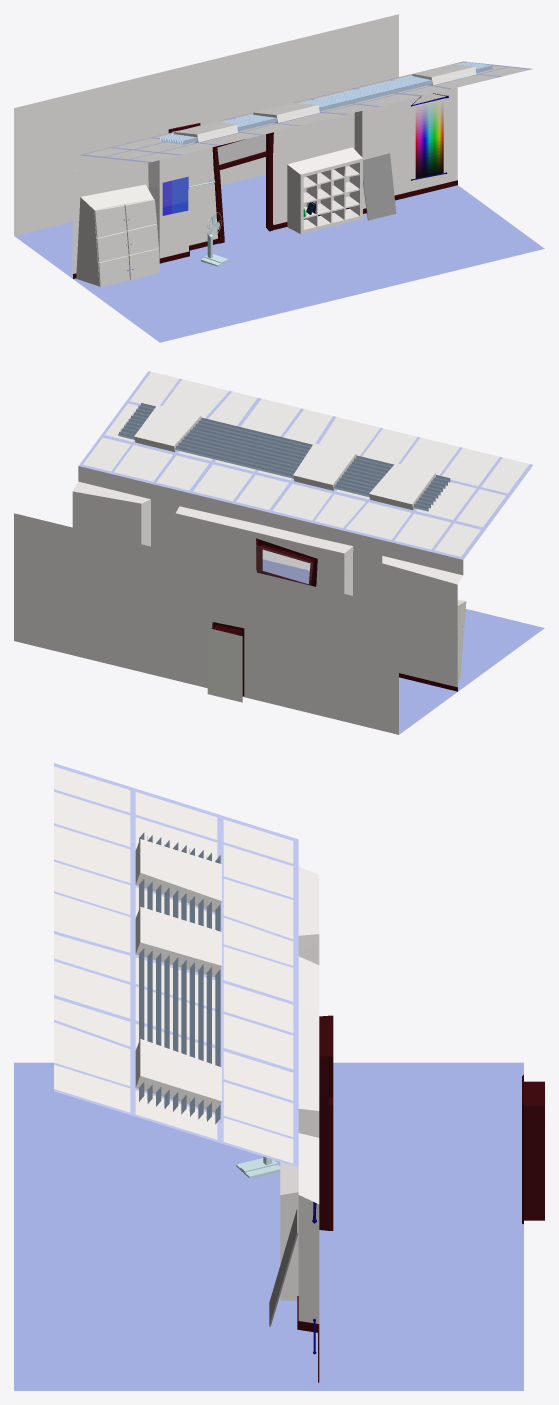
File: Level1(legacy).fbx
3 renders of one model, top to bottom at view 1: azimuth 30°, elevation 25°; view 2: azimuth 150°, elevation 25°; view 3: azimuth 270°, elevation 25°, orthographic. The views are drawn at different scales.
Parts seen in each view (by area): view 1: book6; view 2: book6; view 3: book6.
Boxes of the visible parts, x1,y1,x2,y2 form: book6: (14, 14, 544, 342); book6: (14, 371, 544, 734); book6: (14, 763, 544, 1390).
Size of the model in its own units: 1260 by 536 by 861.
